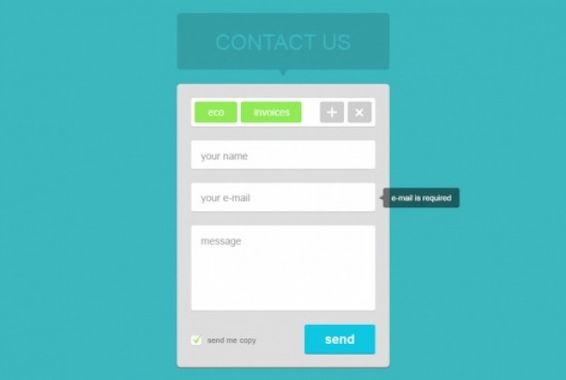_form_: (1, 1, 416, 380)
button: (303, 323, 378, 355), (240, 99, 304, 124), (191, 98, 238, 124)
checkbox: (190, 333, 202, 347)
checkbox_with_label: (188, 331, 257, 348)
field: (189, 224, 376, 312), (190, 138, 377, 171), (189, 182, 377, 213)
